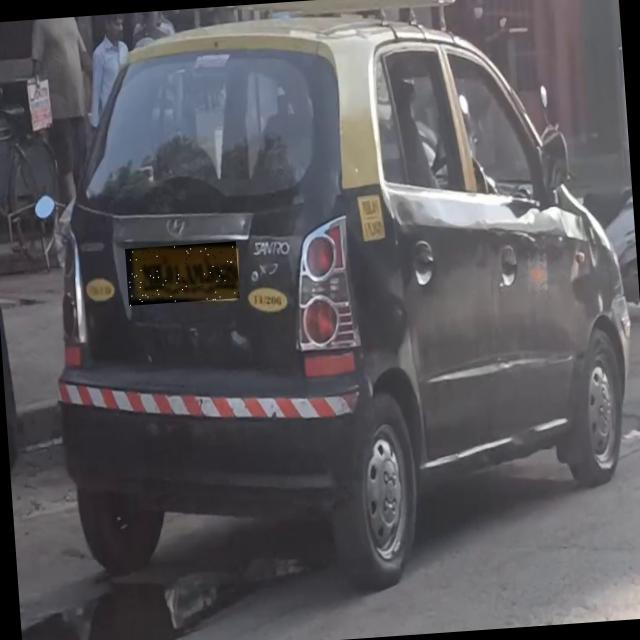Plate: (126, 242, 241, 307)
